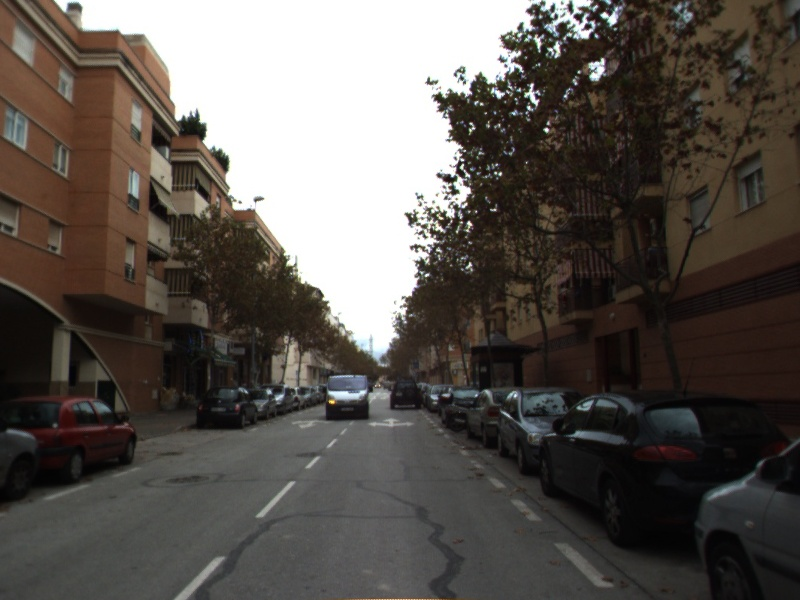STRAIGHT_LEFT_RIGHT: (366, 415, 417, 430)
